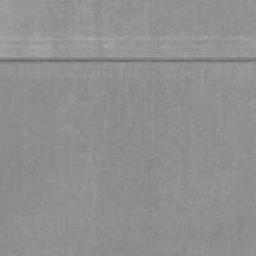Welding line: (0, 57, 256, 64)
